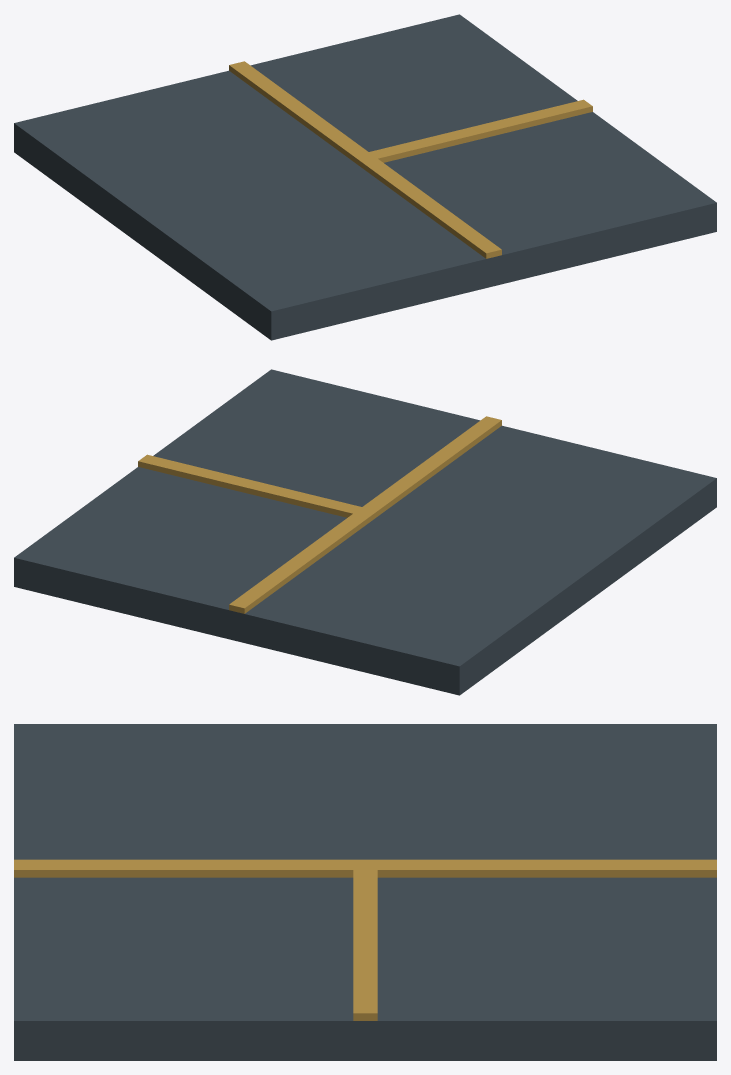
Rendered from terrain-road-t-junction.lod0.glb.
3 renders of one model, top to bottom at view 1: azimuth 30°, elevation 25°; view 2: azimuth 150°, elevation 25°; view 3: azimuth 270°, elevation 25°, orthographic. The views are drawn at different scales.
Parts seen in each view (by area): view 1: terrain-road-t-junction__body; view 2: terrain-road-t-junction__body; view 3: terrain-road-t-junction__body.
Boxes of the visible parts, bbox=[...] form: terrain-road-t-junction__body: bbox=[14, 14, 716, 340]; terrain-road-t-junction__body: bbox=[14, 369, 716, 695]; terrain-road-t-junction__body: bbox=[14, 724, 716, 1060].
Bounding box in the file's own units: 2 × 0.149 × 2.
